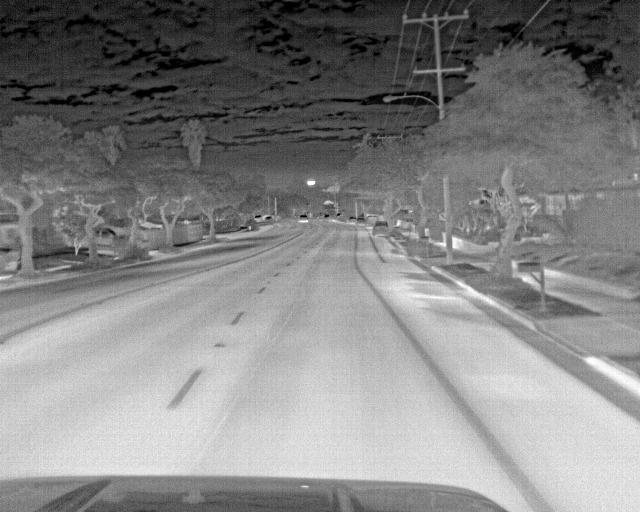car: (92, 226, 116, 249), (371, 220, 388, 236), (297, 212, 312, 224), (354, 218, 367, 230), (251, 211, 264, 223)
